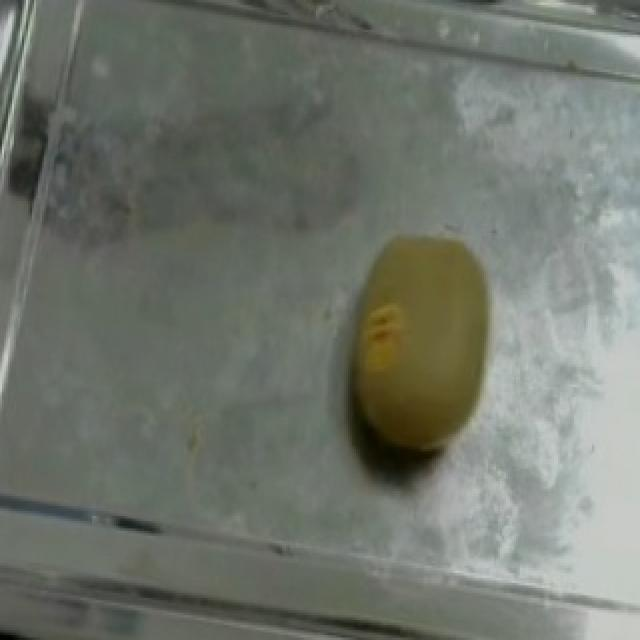Fruit: (316, 213, 518, 484)
